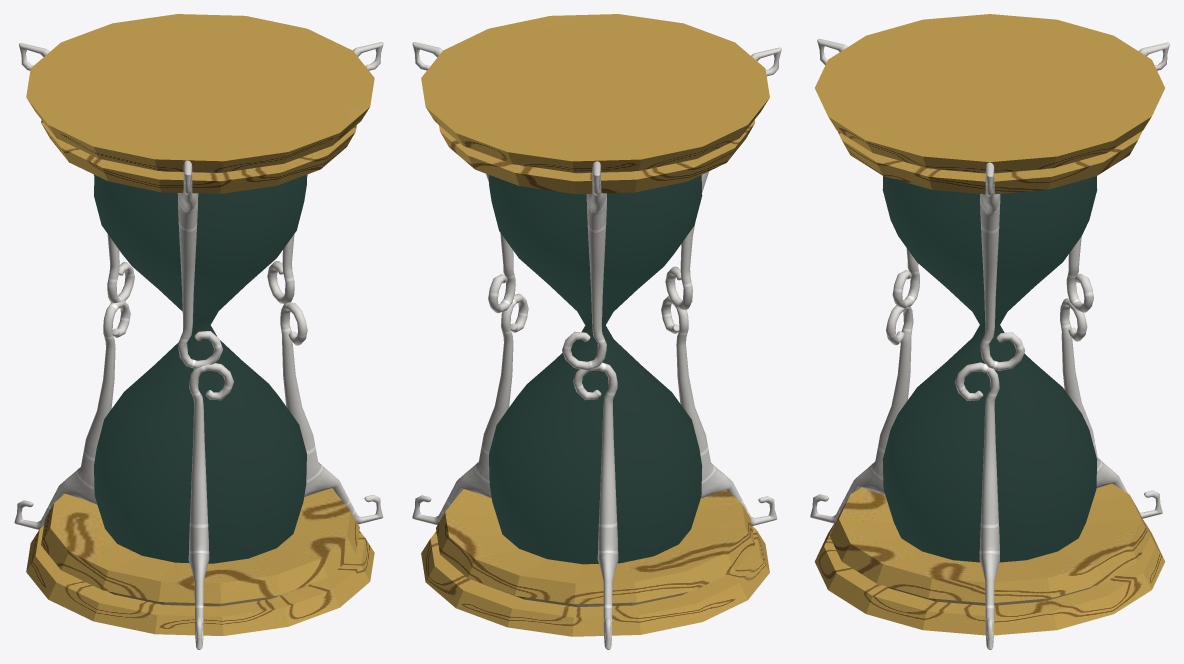
Rendered from sunadokei2.fbx.
3 renders of one model, left to right at view 1: azimuth 30°, elevation 25°; view 2: azimuth 150°, elevation 25°; view 3: azimuth 270°, elevation 25°, orthographic.
Parts seen in each view (by area): view 1: polySurface3, polySurface4, polySurface1, extrudedSurface2 (×2), extrudedSurface4 (×2), extrudedSurface1 (×2); view 2: polySurface3, polySurface4, polySurface1, extrudedSurface4 (×2), extrudedSurface2 (×2), extrudedSurface1 (×2); view 3: polySurface3, polySurface4, polySurface1, extrudedSurface1 (×2), extrudedSurface4 (×2), extrudedSurface2 (×2).
Part boxes in pixels (left/top/right/bottom): polySurface3: left=94, top=175, right=306, bottom=563; polySurface4: left=26, top=14, right=374, bottom=193; polySurface1: left=26, top=488, right=374, bottom=635; extrudedSurface2 (×2): left=14, top=160, right=222, bottom=529; extrudedSurface4 (×2): left=19, top=43, right=233, bottom=649; extrudedSurface1 (×2): left=267, top=42, right=383, bottom=524; polySurface3: left=489, top=175, right=702, bottom=564; polySurface4: left=421, top=14, right=769, bottom=194; polySurface1: left=421, top=489, right=769, bottom=636; extrudedSurface4 (×2): left=562, top=161, right=777, bottom=525; extrudedSurface2 (×2): left=573, top=47, right=781, bottom=649; extrudedSurface1 (×2): left=412, top=42, right=528, bottom=524; polySurface3: left=882, top=176, right=1097, bottom=562; polySurface4: left=815, top=14, right=1164, bottom=194; polySurface1: left=814, top=483, right=1165, bottom=635; extrudedSurface1 (×2): left=955, top=162, right=1024, bottom=649; extrudedSurface4 (×2): left=810, top=42, right=1169, bottom=523; extrudedSurface2 (×2): left=817, top=38, right=1162, bottom=518.
Bounding box in the file's own units: 5.71 × 7.76 × 5.33.
